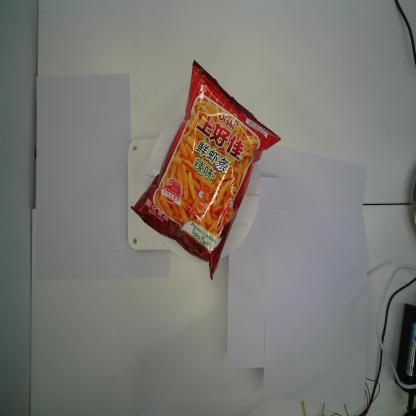Puffed Food: (131, 59, 281, 281)
